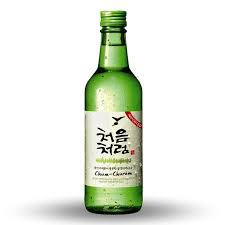soju: (83, 9, 146, 215)
